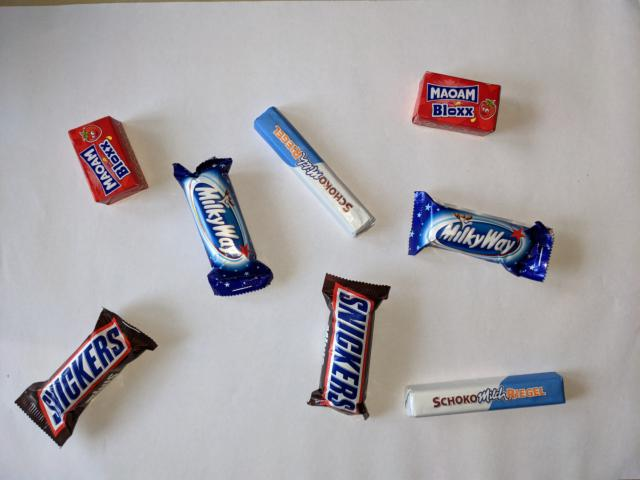MAOAM: (66, 114, 152, 207), (408, 67, 504, 140)
MilkyWay: (169, 154, 276, 298), (404, 187, 558, 285)
Schokoriegel: (250, 104, 378, 239), (399, 370, 569, 421)
Snickers: (11, 304, 160, 452), (304, 270, 395, 423)
